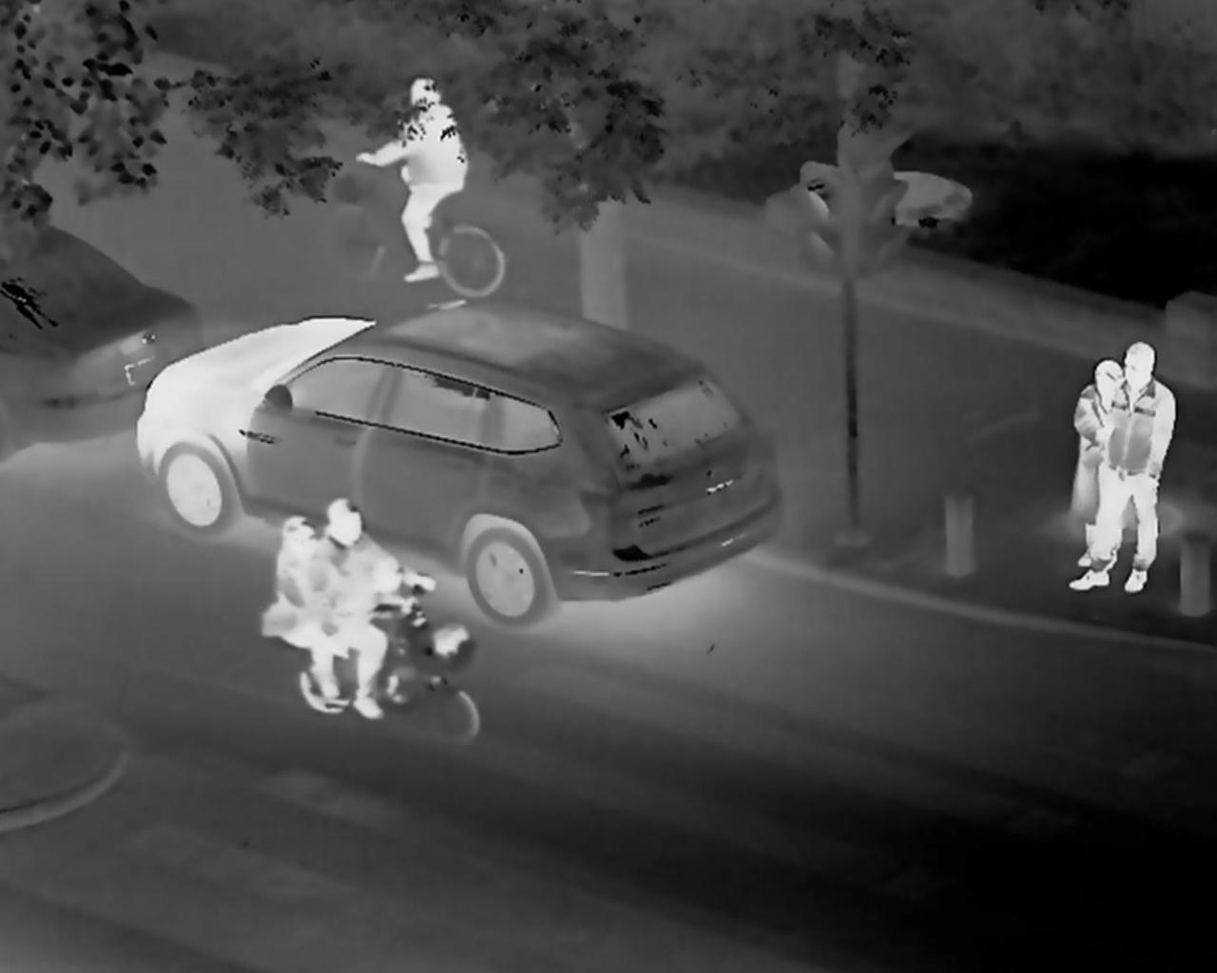person: (372, 85, 478, 287), (310, 502, 405, 694), (1108, 347, 1163, 607), (254, 491, 304, 684), (1084, 353, 1104, 525)
